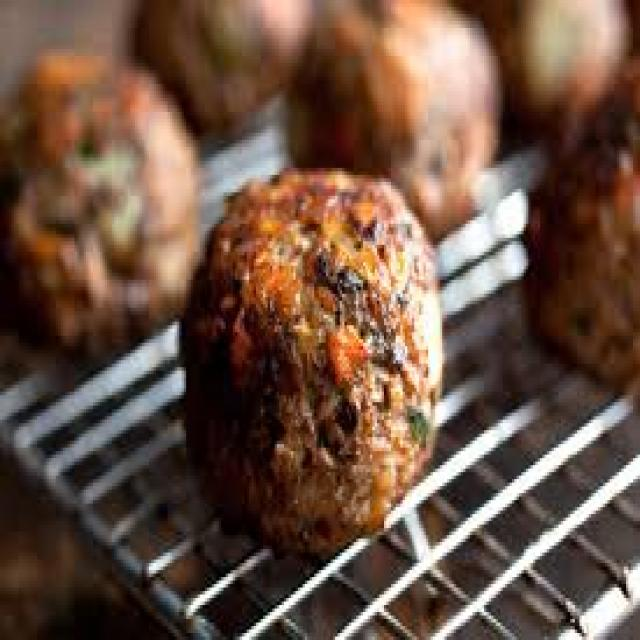Meatball: (169, 153, 456, 569)
